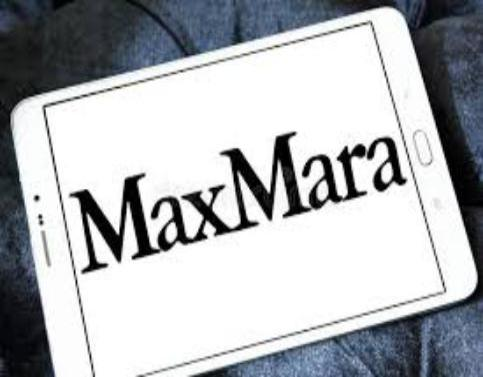MAX-MARA: (74, 131, 408, 273)
